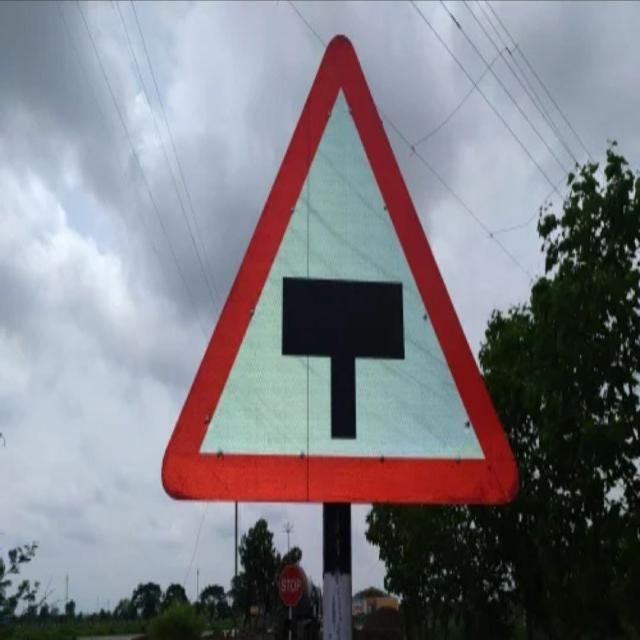t intersection: (158, 28, 511, 506)
